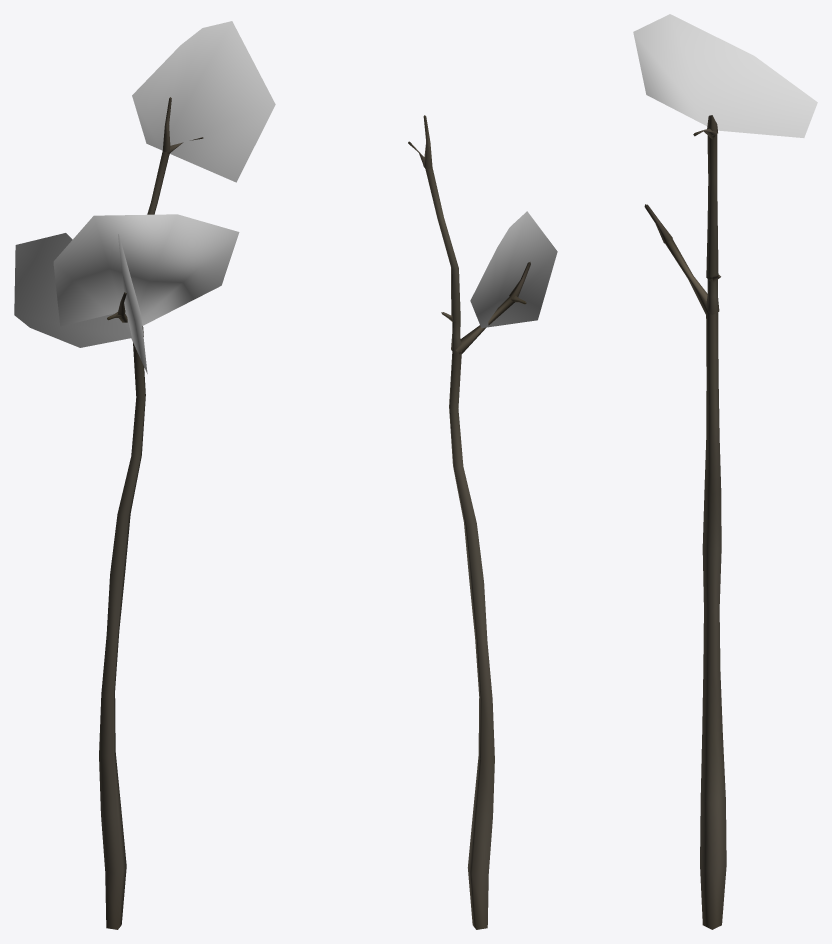
File: sapling_4.glb
3 views of the same model, side by side, from view 1: azimuth 30°, elevation 25°; view 2: azimuth 150°, elevation 25°; view 3: azimuth 270°, elevation 25° (orthographic). The views are drawn at different scales.
Visible parts, largest first — view 1: sapling_4; view 2: sapling_4; view 3: sapling_4.
Part boxes in pixels (bbox=[...]): sapling_4: bbox=[14, 21, 275, 929]; sapling_4: bbox=[408, 115, 557, 929]; sapling_4: bbox=[633, 14, 817, 929].
Bounding box in the file's own units: 0.6856 × 2.52 × 0.5211.
